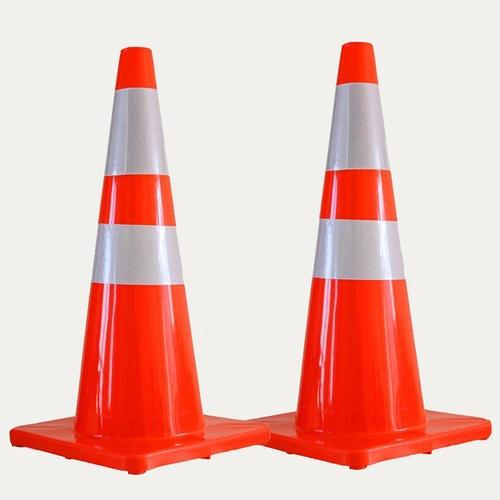cone_barrel: (280, 56, 438, 465), (62, 56, 214, 463)
